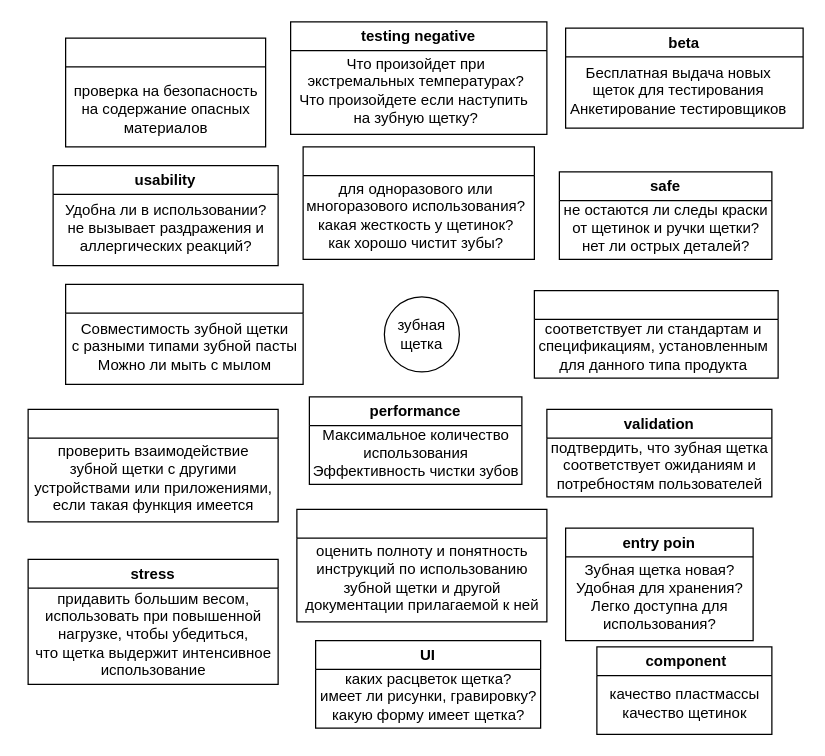
The diagram is 825 pixels wide and 756 high, and some of its shapes have lost their labels. Each missing label, with the box of its shape:
compatibility: (64, 283, 303, 384)
documentation: (296, 508, 547, 622)
functional: (302, 146, 534, 259)
integration: (27, 408, 278, 522)
security: (64, 37, 266, 147)
verification: (533, 289, 778, 378)
